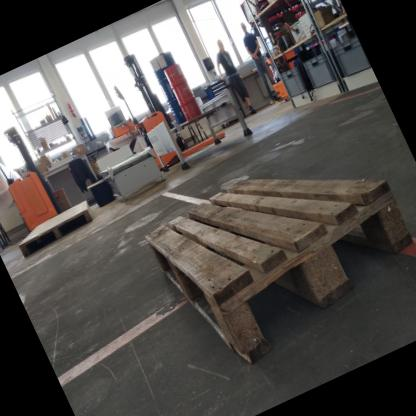BoxFace: (141, 171, 416, 371), (17, 195, 96, 262)
